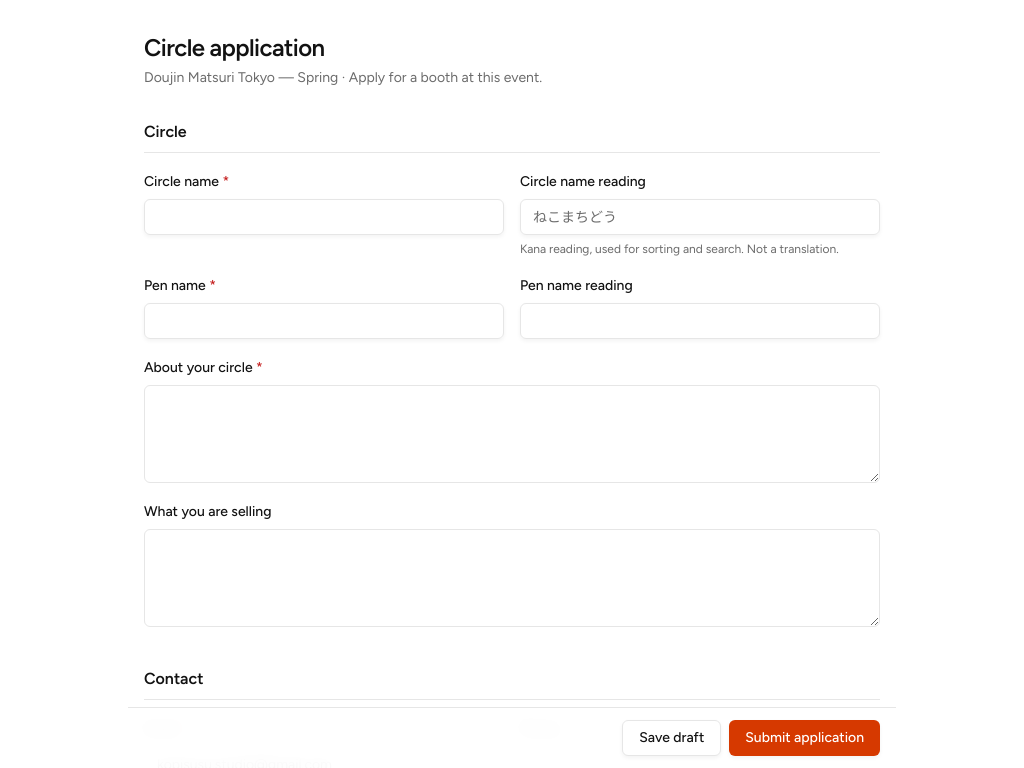
it: CircleApplicationForm › requires furigana when the circle name is written in Japanese
In the field labelled "Circle name *": [324, 217] box [144,199,504,235], type "猫町堂"
In the field labelled "Pen name *": [324, 321] box [144,303,504,339], type "Naya"
(page scrolled)
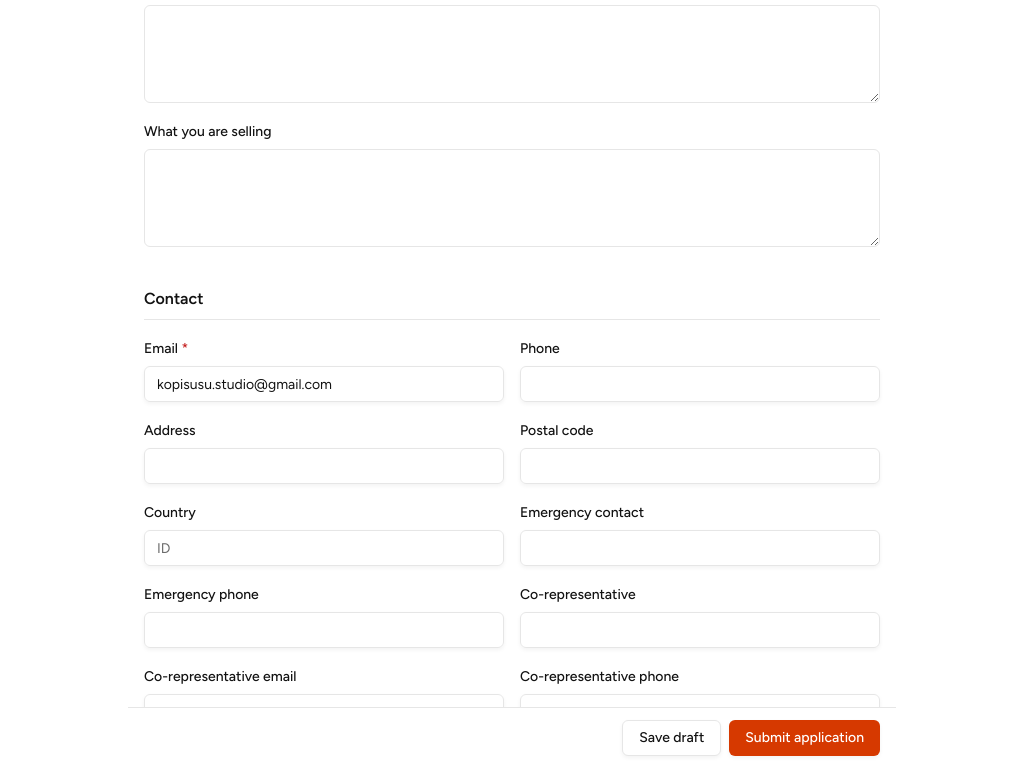
Replace the text in the field labelled "Email *" with "naya@example.com": [324, 384] box [144,366,504,402]
In the text box labelled "About your circle *": [512, 54] box [144,5,880,103], type "Riso-printed short comics."
(page scrolled)
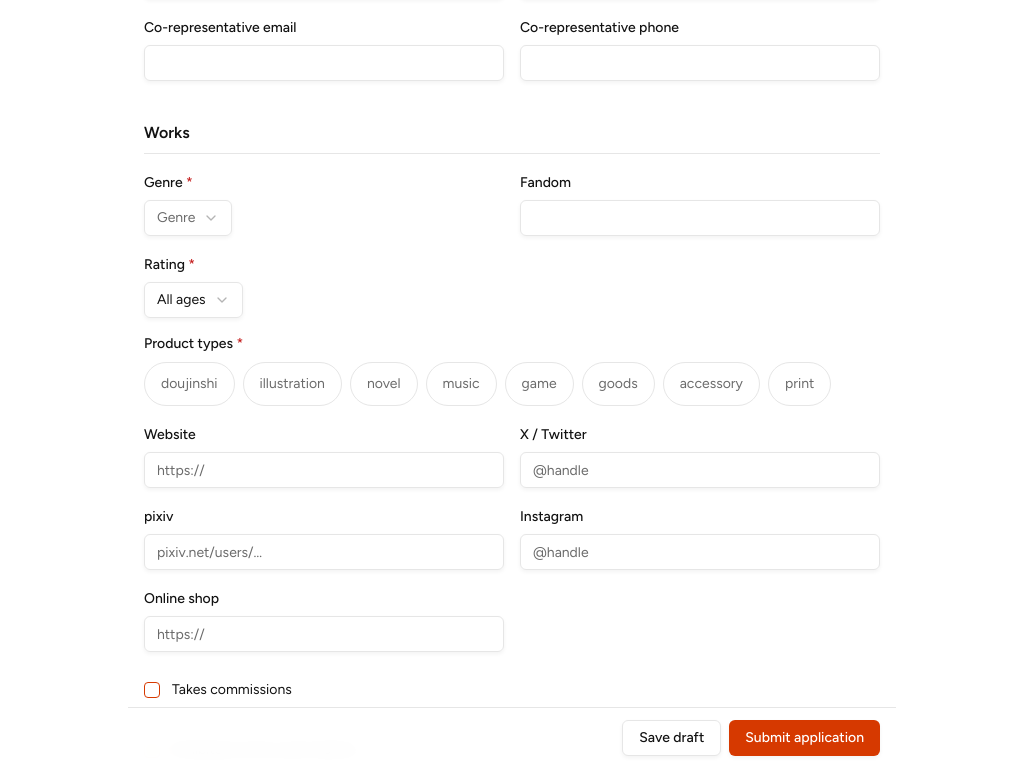
Click the button "doujinshi": [189, 384] box [144,362,234,406]
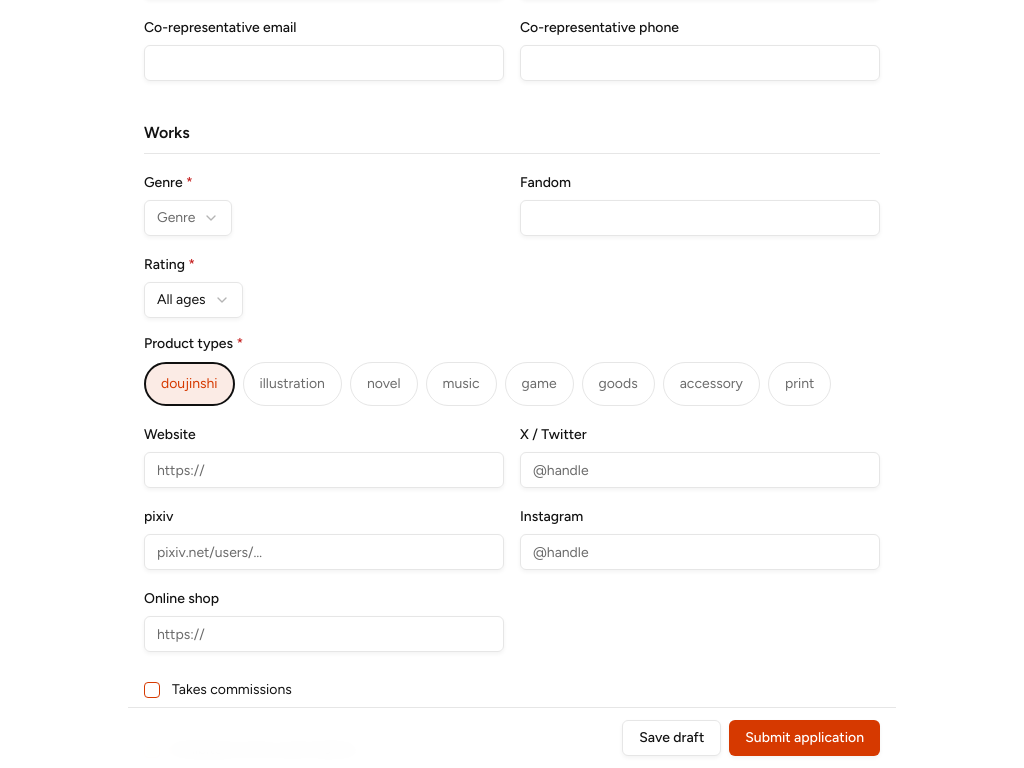
Click the dropdown labelled "Genre": [188, 218] box [144,200,232,236]
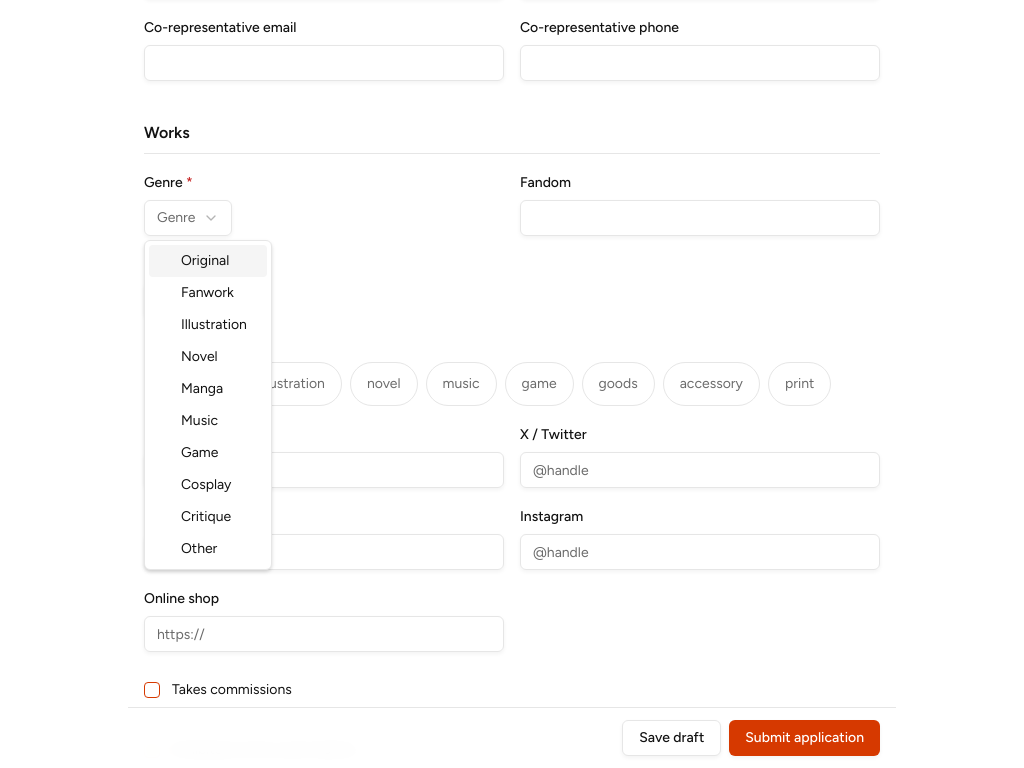
Click the option "Original": [208, 261] box [149,245,267,277]
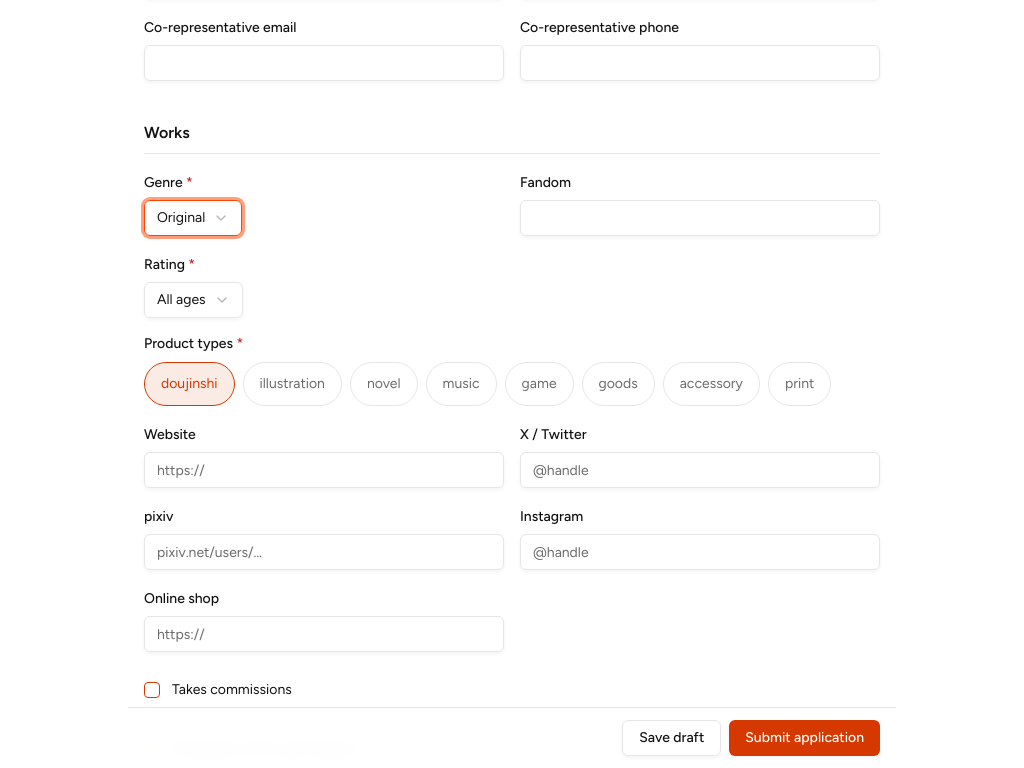
Click the button "Submit application": [805, 738] box [729,720,880,756]
(page scrolled)
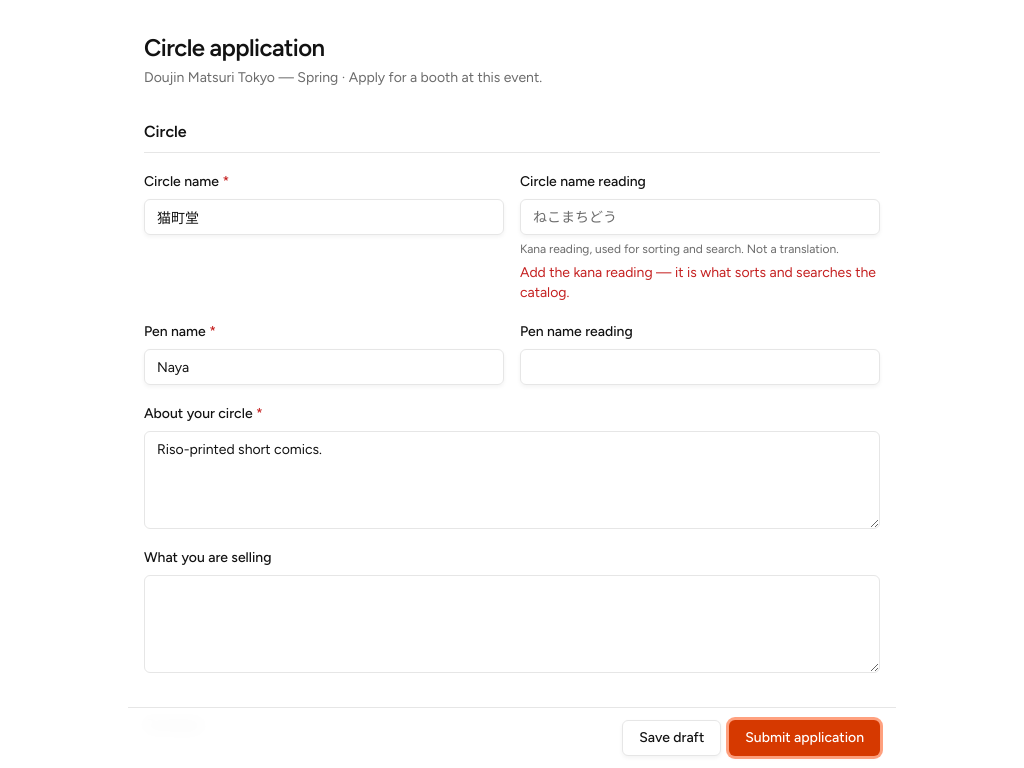
Result: the text "Add the kana reading" is shown at [520,264,876,301]
